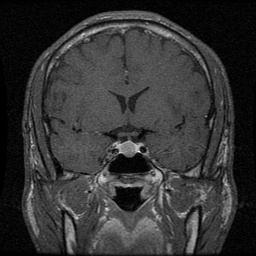pituitary: (113, 141, 140, 157)
